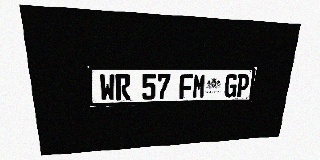5: (142, 74, 156, 100)
7: (156, 74, 170, 100)
F: (179, 74, 193, 99)
G: (224, 74, 238, 98)
M: (192, 74, 206, 99)
P: (235, 74, 250, 97)
R: (115, 74, 130, 101)
W: (99, 74, 115, 101)
